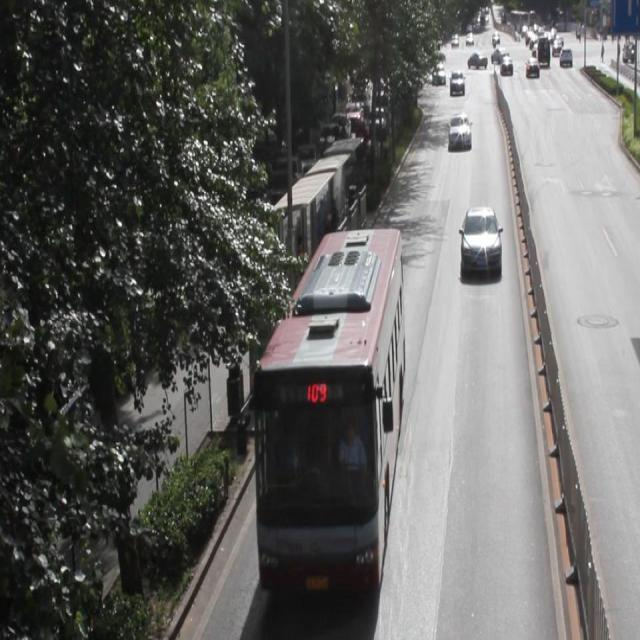car: (459, 206, 500, 268), (447, 114, 470, 147)
van: (253, 229, 401, 584)
